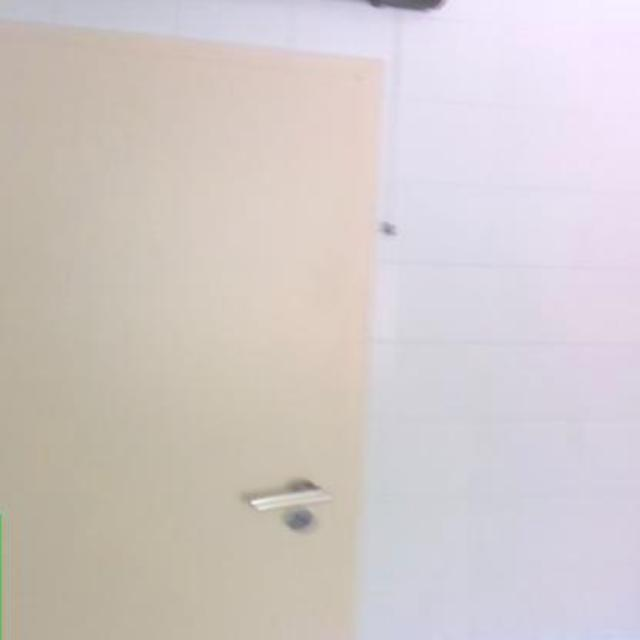door: (0, 13, 384, 638)
